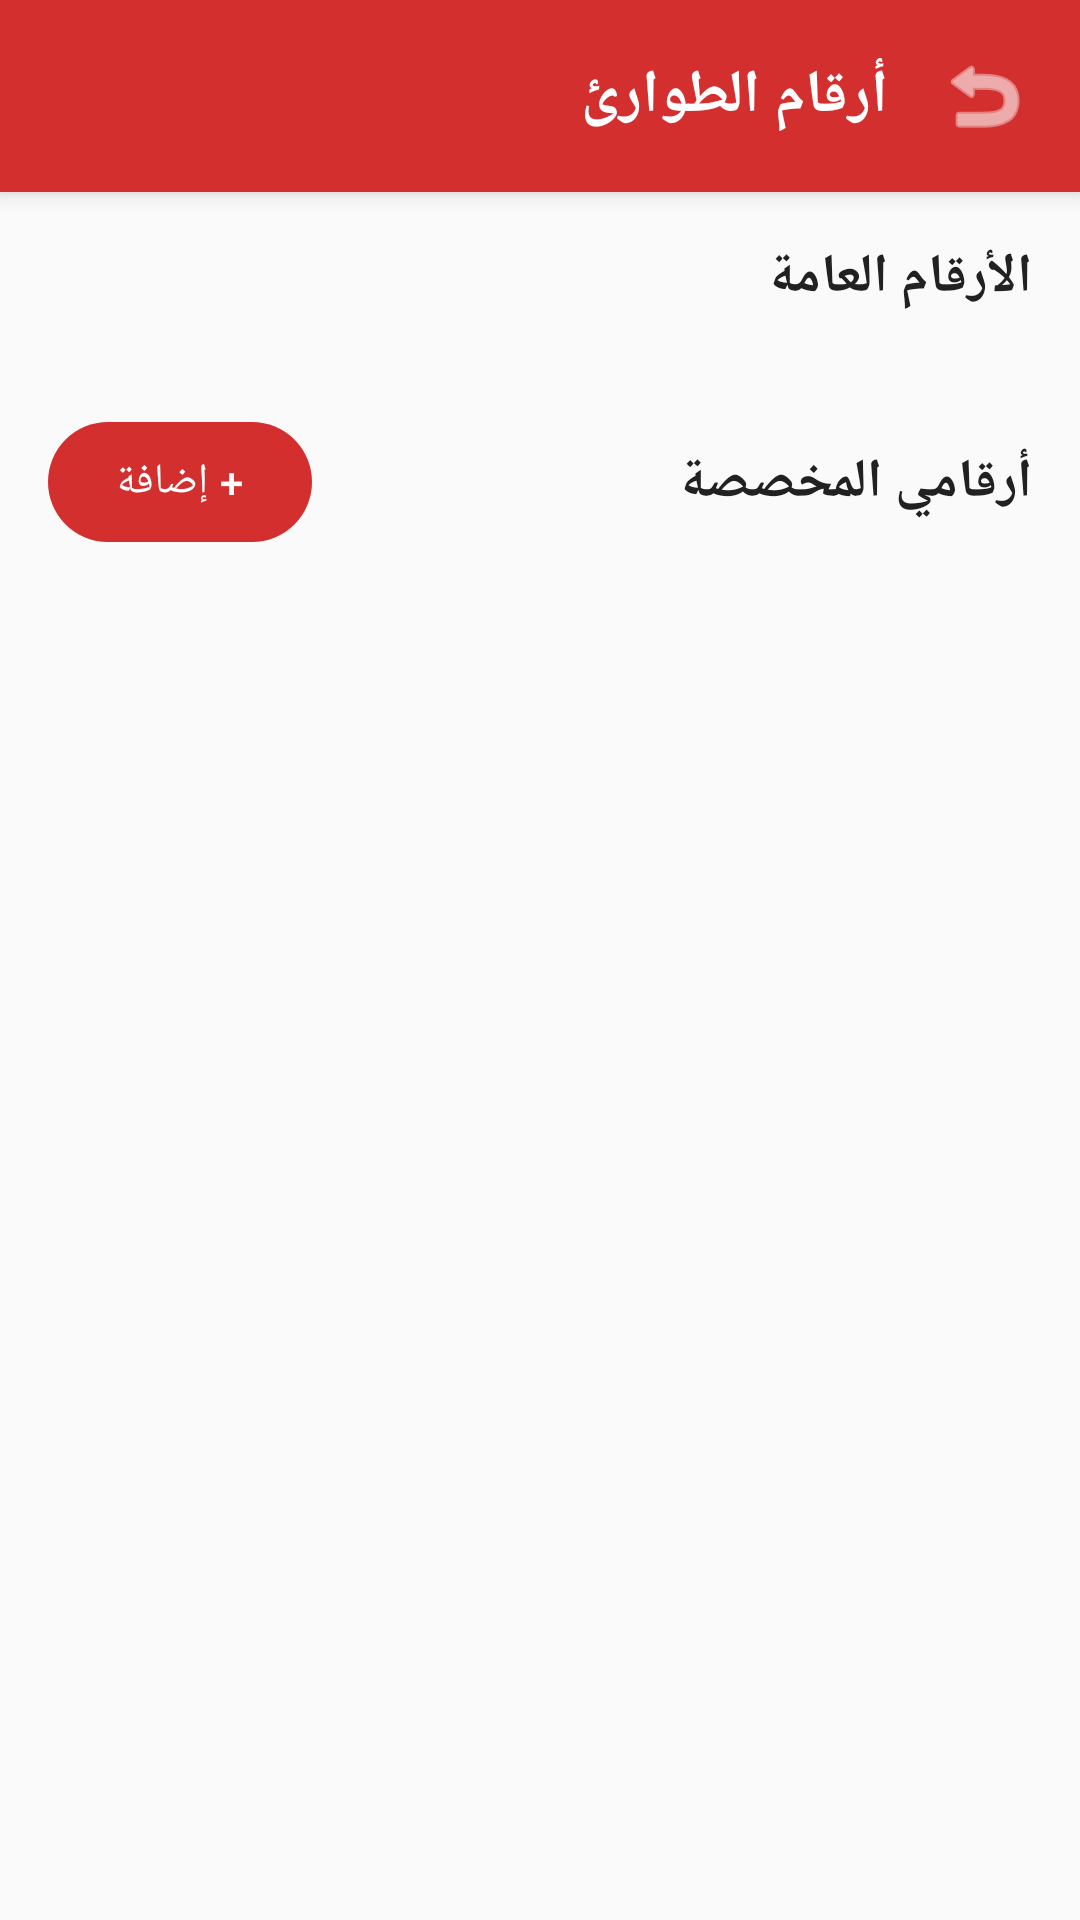

Named icons in this screenshot (1080x1920) and their centers, (x,y):
رجوع: (985,96)
